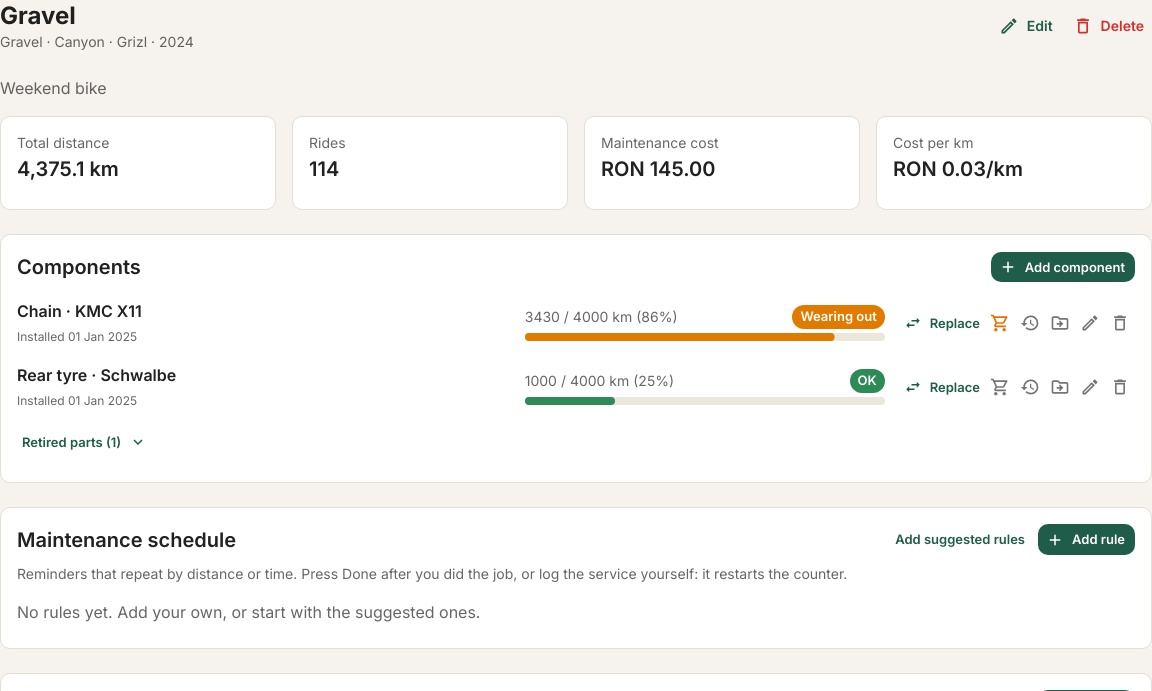
it: BikeDetail › components › "Add component" opens the form with this bike preselected
The image size is (1152, 691).
Expected: the heading "Gravel" is shown, [0,1,76,30]
Click the button "Add component". click: (1063, 267)
box: [991,252,1135,282]
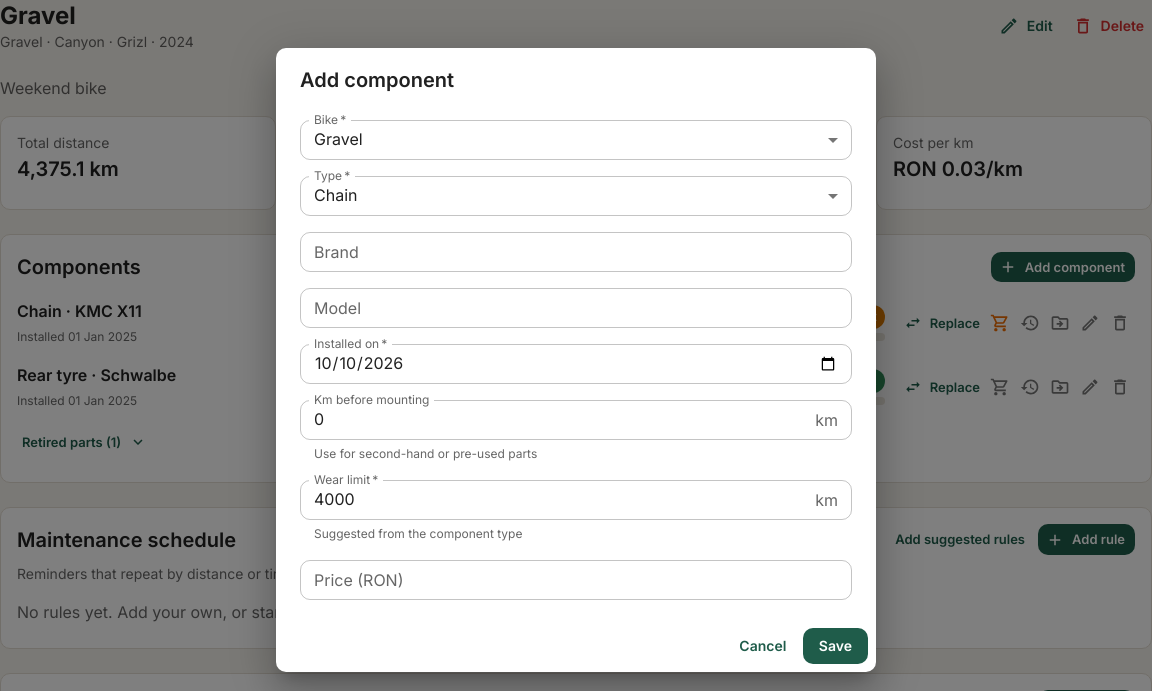
Now the heading "Add component" is shown, box [300,68,454,92]
Now the dropdown named "Bike" reads "Gravel", box [314,129,363,149]
